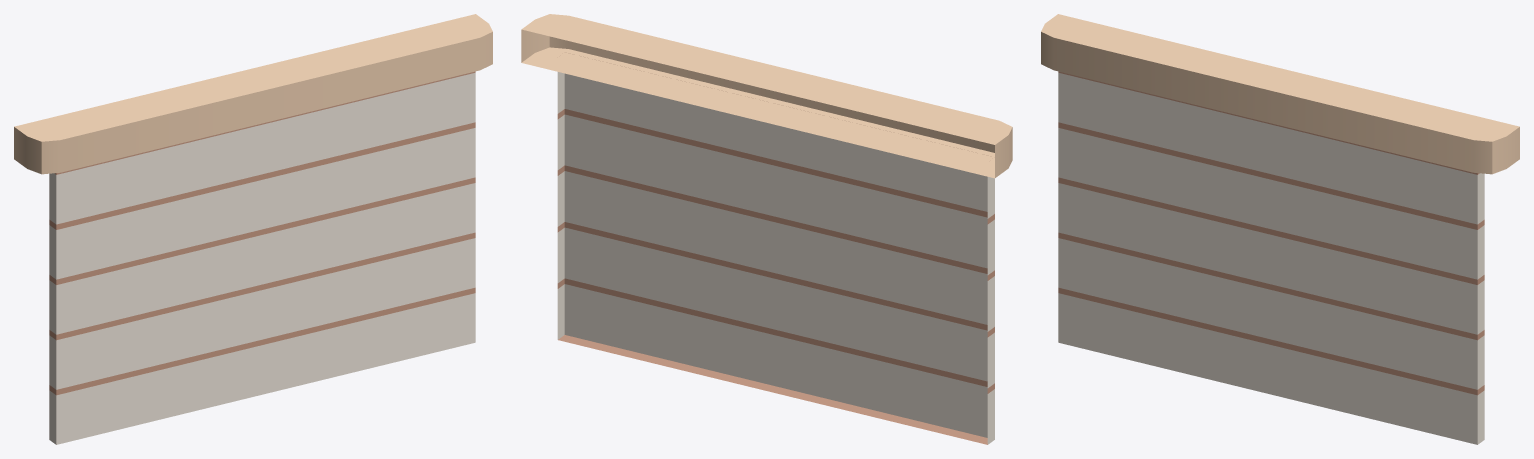
File: blind.fbx
The picture shows the model from 3 angles, left to right: view 1: azimuth 30°, elevation 25°; view 2: azimuth 150°, elevation 25°; view 3: azimuth 330°, elevation 25°; orthographic projection. The views are drawn at different scales.
Visible parts, largest first — view 1: blind; view 2: blind; view 3: blind.
Boxes of the visible parts, box(x1,y1,x2,y2) form: blind: box(14, 14, 492, 444); blind: box(521, 14, 1012, 444); blind: box(1041, 14, 1519, 444).
Size of the model in its own units: 198 by 18.9 by 126.
